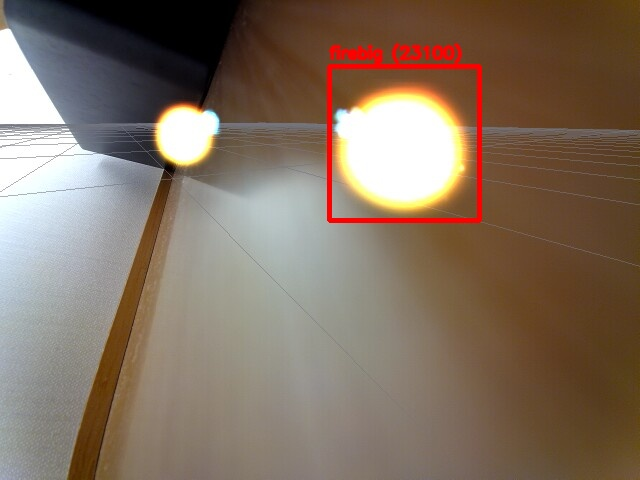firebig: (329, 66, 479, 220)
